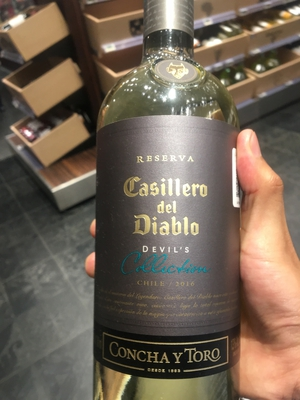casillero del diablo devils collection verde: (76, 15, 250, 400)
